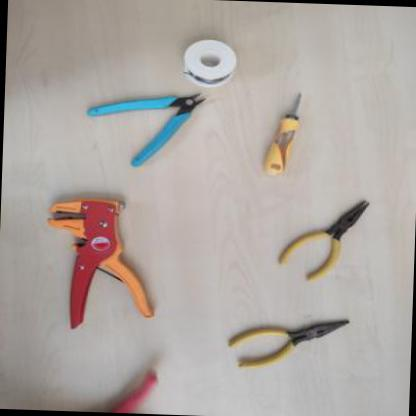Screwdriver: (260, 89, 307, 180)
